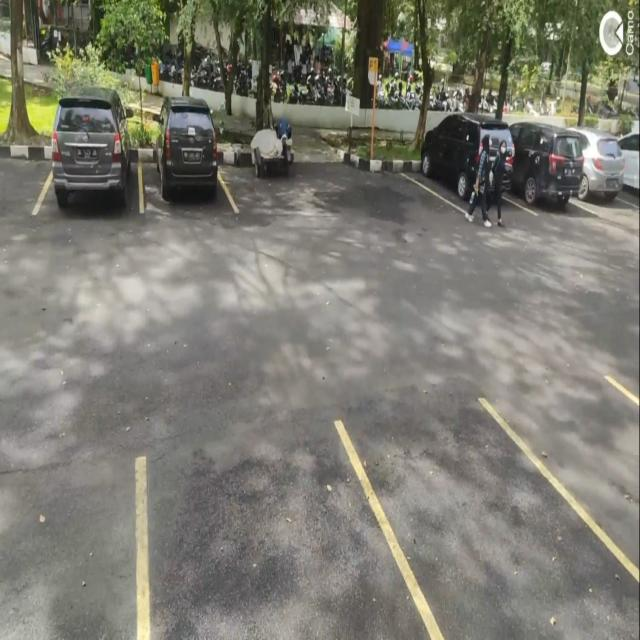occupied: (38, 93, 142, 211), (142, 90, 223, 214), (419, 115, 516, 214), (517, 117, 584, 218)
